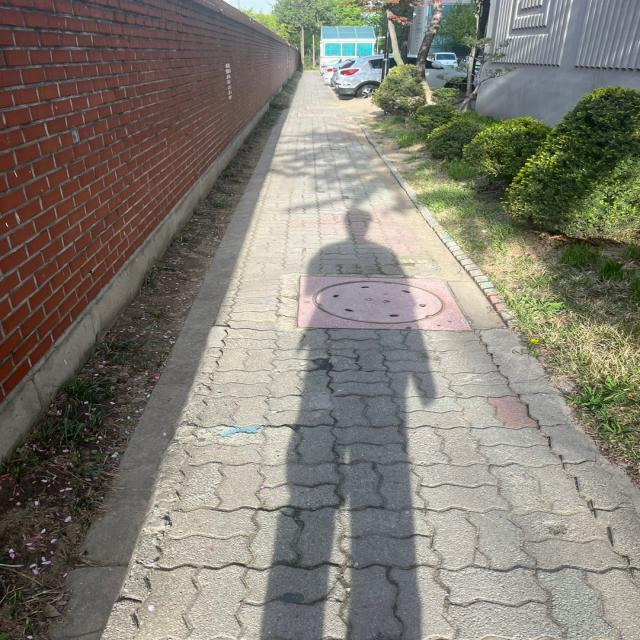Sewer Cover: (282, 263, 467, 343)
